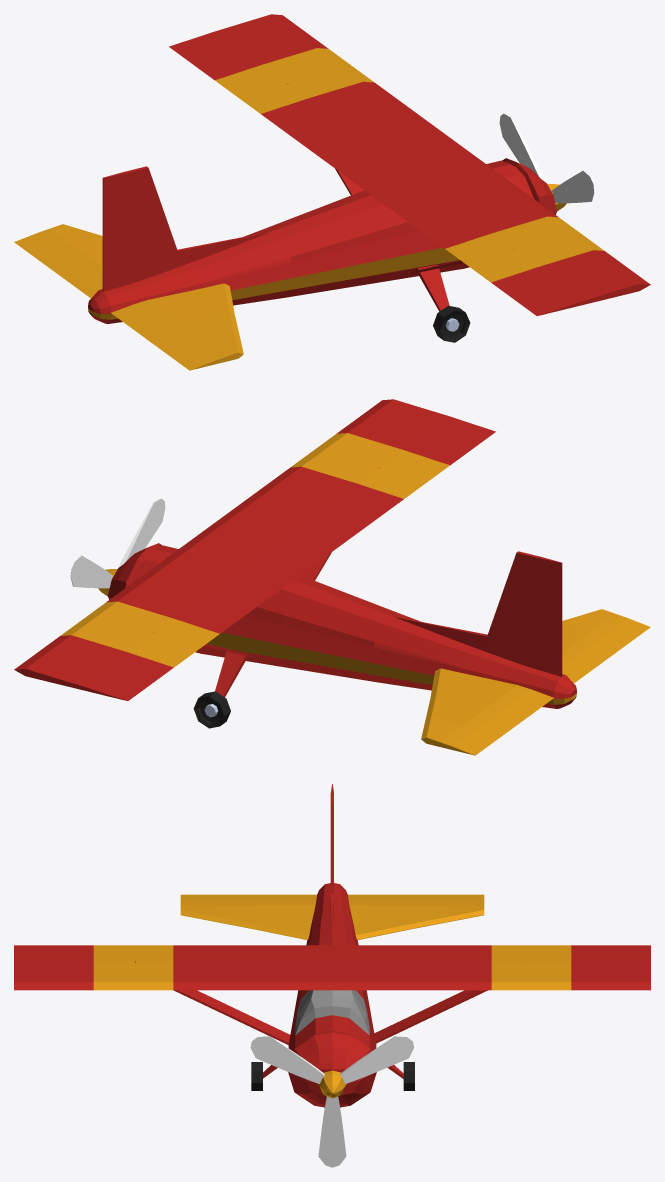
3 renders of one model, top to bottom at view 1: azimuth 30°, elevation 25°; view 2: azimuth 150°, elevation 25°; view 3: azimuth 270°, elevation 25°, orthographic. The views are drawn at different scales.
Visible parts, largest first — view 1: Cube.003, Cube, Cube.004, Plane.001, Plane, Cylinder.002, Plane.003; view 2: Cube.003, Cube, Cube.004, Plane.001, Plane, Cylinder.001, Plane.002; view 3: Cube.003, Cube, Cube.004, Plane, Cube.001, Cube.005, Plane.001, Cylinder.
Boxes of the visible parts, x1,y1,x2,y2 form: Cube.003: [169, 14, 650, 315]; Cube: [88, 158, 556, 323]; Cube.004: [14, 224, 243, 370]; Plane.001: [102, 166, 270, 291]; Plane: [499, 113, 594, 203]; Cylinder.002: [433, 305, 470, 342]; Plane.003: [416, 265, 449, 311]; Cube.003: [14, 399, 495, 700]; Cube: [108, 543, 576, 708]; Cube.004: [421, 609, 650, 755]; Plane.001: [394, 551, 562, 676]; Plane: [70, 498, 165, 588]; Cylinder.001: [193, 691, 230, 728]; Plane.002: [215, 651, 247, 697]; Cube.003: [14, 945, 650, 990]; Cube: [288, 883, 376, 1107]; Cube.004: [180, 894, 484, 940]; Plane: [250, 1036, 413, 1167]; Cube.001: [135, 961, 290, 1044]; Cube.005: [374, 961, 525, 1043]; Plane.001: [330, 784, 333, 937]; Cylinder: [318, 1070, 346, 1098].
Bounding box in the file's own units: 1255 × 567 × 1669.
